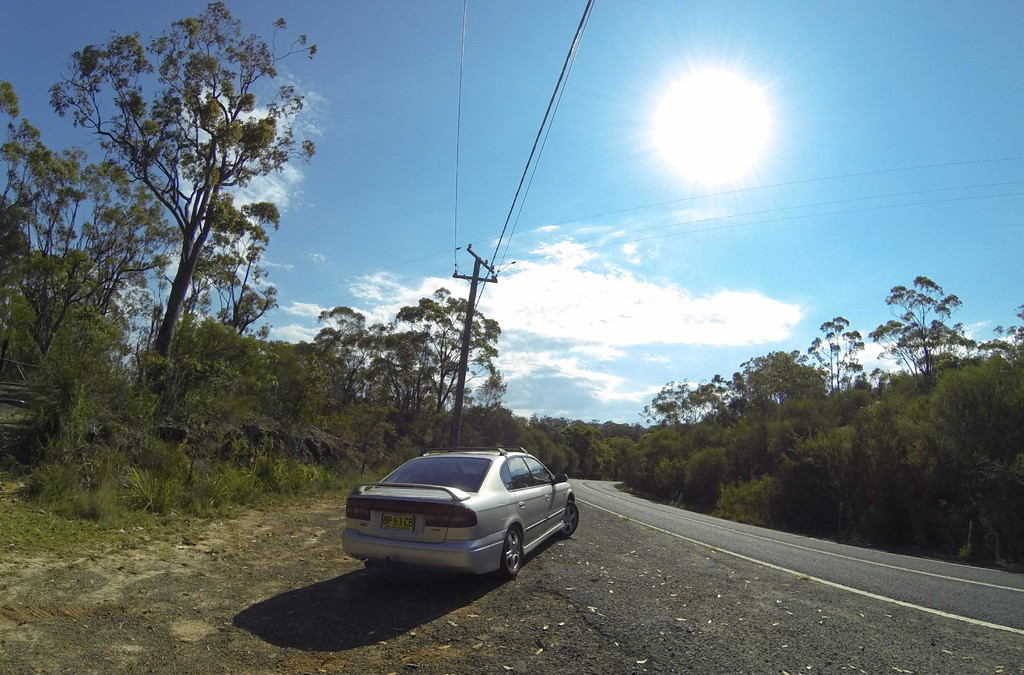Tree: (46, 33, 309, 471), (616, 367, 1023, 575), (0, 81, 95, 391), (422, 395, 642, 485), (389, 287, 504, 432), (861, 270, 966, 395), (496, 400, 622, 480), (311, 300, 390, 398), (735, 346, 826, 417), (806, 309, 867, 406), (970, 297, 1023, 366), (634, 375, 693, 436), (704, 367, 739, 430)
